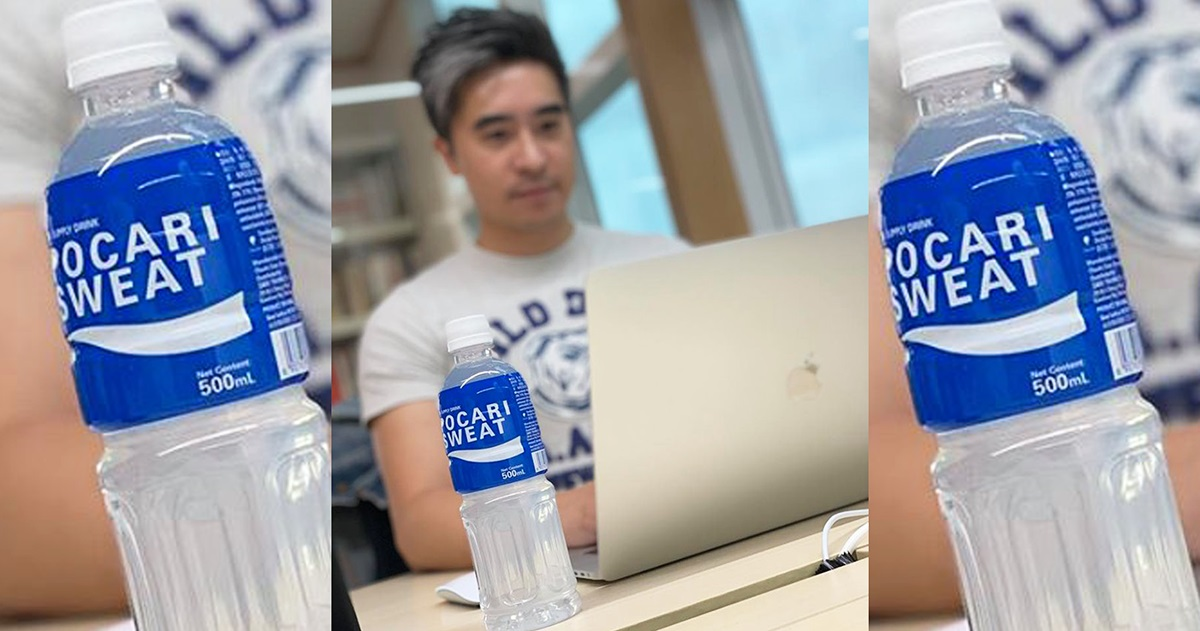POCARI SWEAT: (883, 15, 1199, 631), (40, 4, 329, 631), (433, 314, 577, 631)
